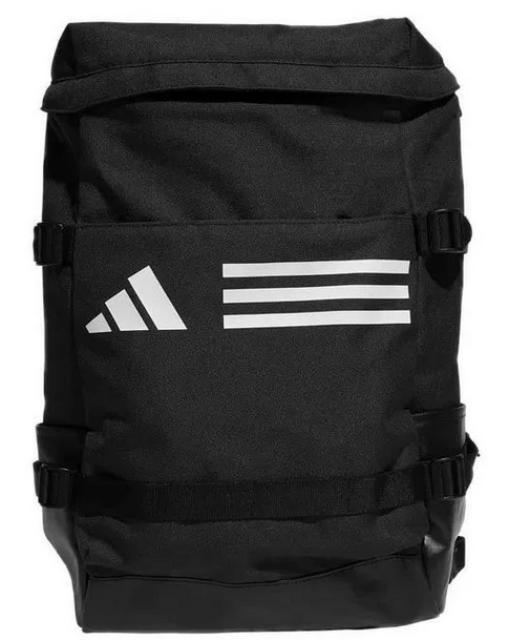Adidas: (86, 258, 192, 342)
